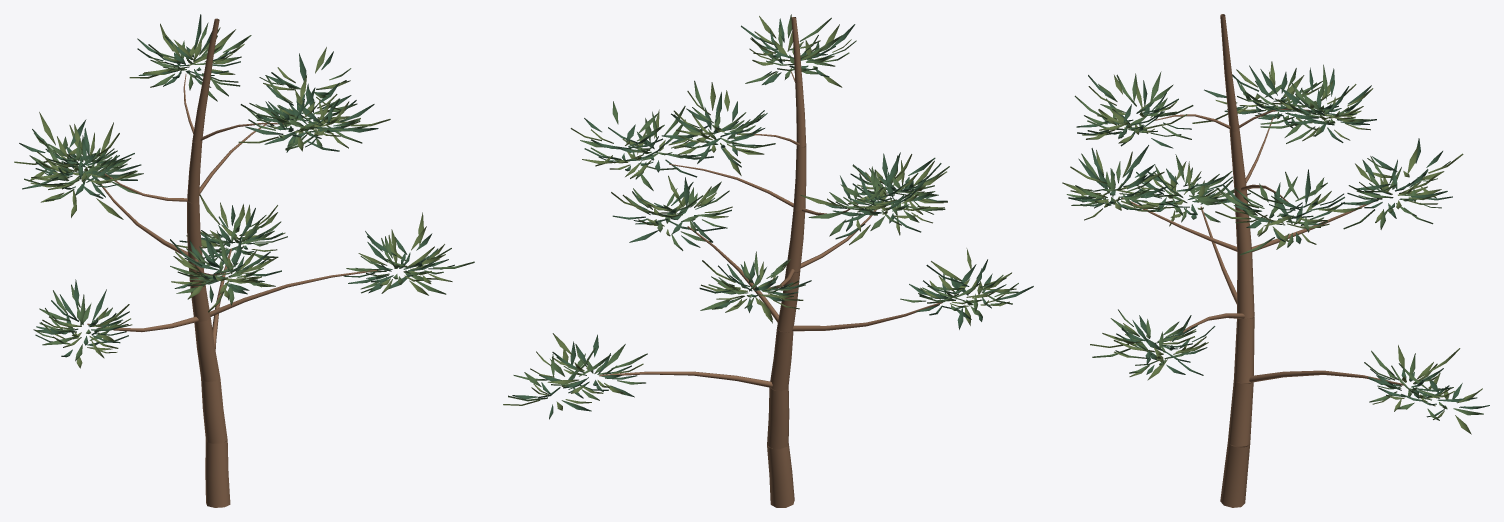
Rendered from Pin_Laricio_1_Low.fbx.
3 renders of one model, left to right at view 1: azimuth 30°, elevation 25°; view 2: azimuth 150°, elevation 25°; view 3: azimuth 270°, elevation 25°, orthographic.
Parts seen in each view (by area): view 1: Pin_Laricio_1_Low; view 2: Pin_Laricio_1_Low; view 3: Pin_Laricio_1_Low.
Boxes of the visible parts, x1,y1,x2,y2 form: Pin_Laricio_1_Low: [14, 14, 474, 507]; Pin_Laricio_1_Low: [503, 14, 1033, 507]; Pin_Laricio_1_Low: [1062, 14, 1489, 507].
Bounding box in the file's own units: 710 × 812 × 649.
